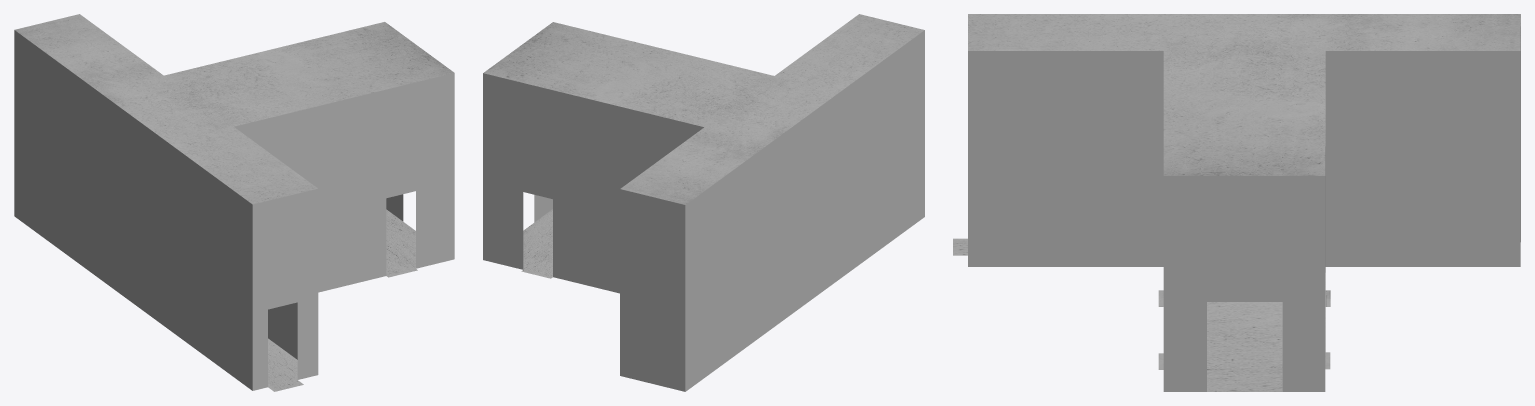
Rendered from BackDoorway.fbx.
3 renders of one model, left to right at view 1: azimuth 30°, elevation 25°; view 2: azimuth 150°, elevation 25°; view 3: azimuth 270°, elevation 25°, orthographic. The views are drawn at different scales.
Visible parts, largest first — view 1: backDoorWay_Baked, backDoorWayRoot_Baked, Floor.012_Baked; view 2: backDoorWay_Baked, backDoorWayRoot_Baked, Floor.012_Baked; view 3: backDoorWay_Baked, backDoorWayRoot_Baked, Floor.012_Baked.
Boxes of the visible parts, x1,y1,x2,y2 form: backDoorWay_Baked: (14,30,454,390); backDoorWayRoot_Baked: (14,14,454,204); Floor.012_Baked: (268,209,417,391); backDoorWay_Baked: (483,30,924,391); backDoorWayRoot_Baked: (483,14,924,204); Floor.012_Baked: (521,209,552,278); backDoorWay_Baked: (968,26,1520,391); backDoorWayRoot_Baked: (968,14,1520,175); Floor.012_Baked: (953,238,1330,391).
Bounding box in the file's own units: 772 × 480 × 1143.
